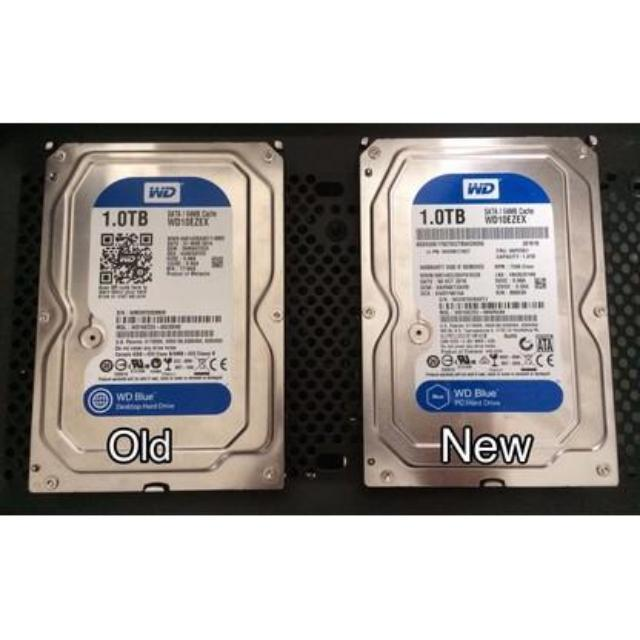DISK: (362, 139, 612, 487), (33, 143, 281, 491)
